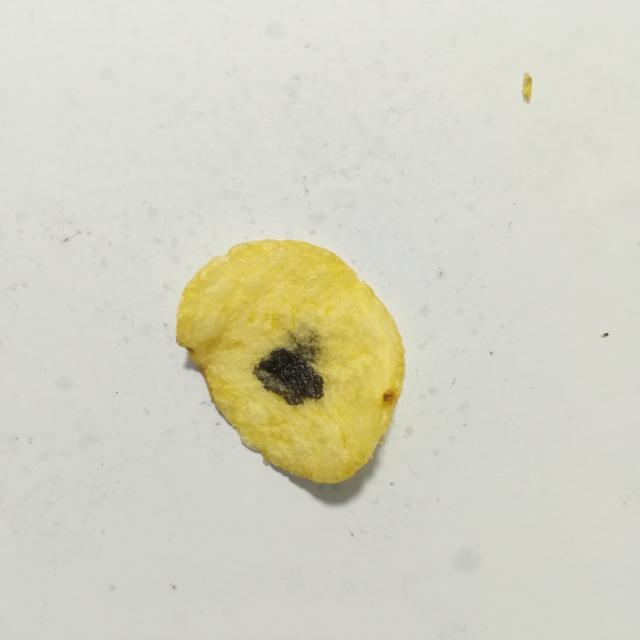chip: (176, 240, 404, 483)
damaged: (254, 348, 323, 405)
semi-damaged: (285, 326, 320, 363)
